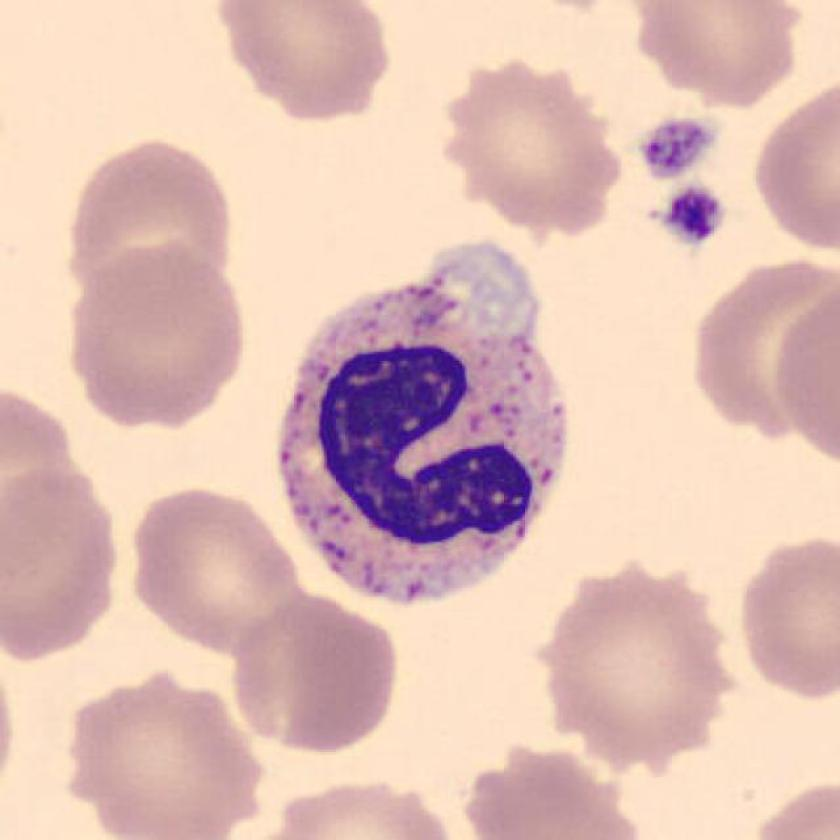neutrophil: (274, 245, 563, 601)
